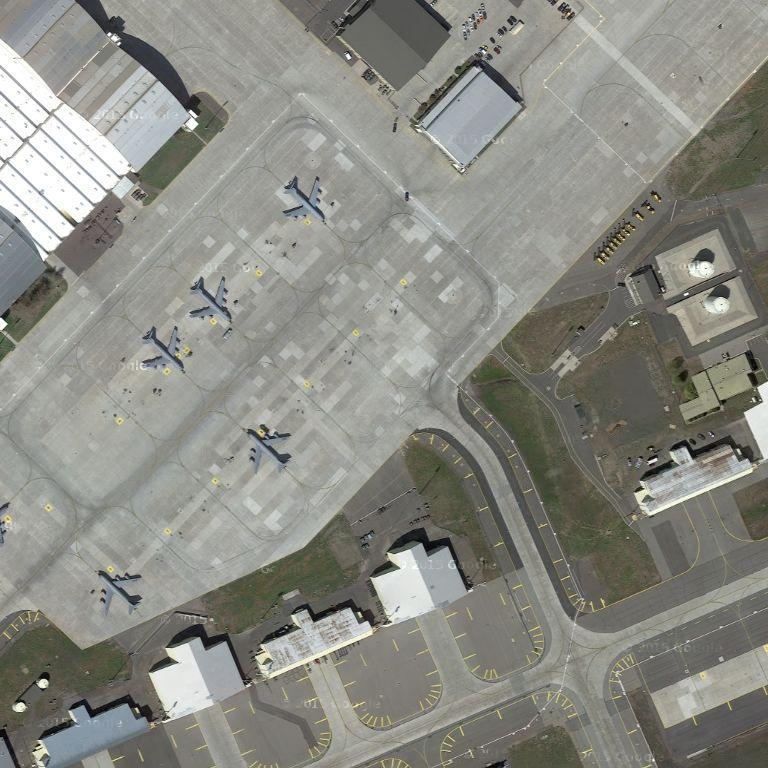KC-135: (95, 568, 147, 622), (243, 425, 295, 478), (139, 325, 191, 377), (185, 278, 236, 330), (279, 174, 329, 223)
